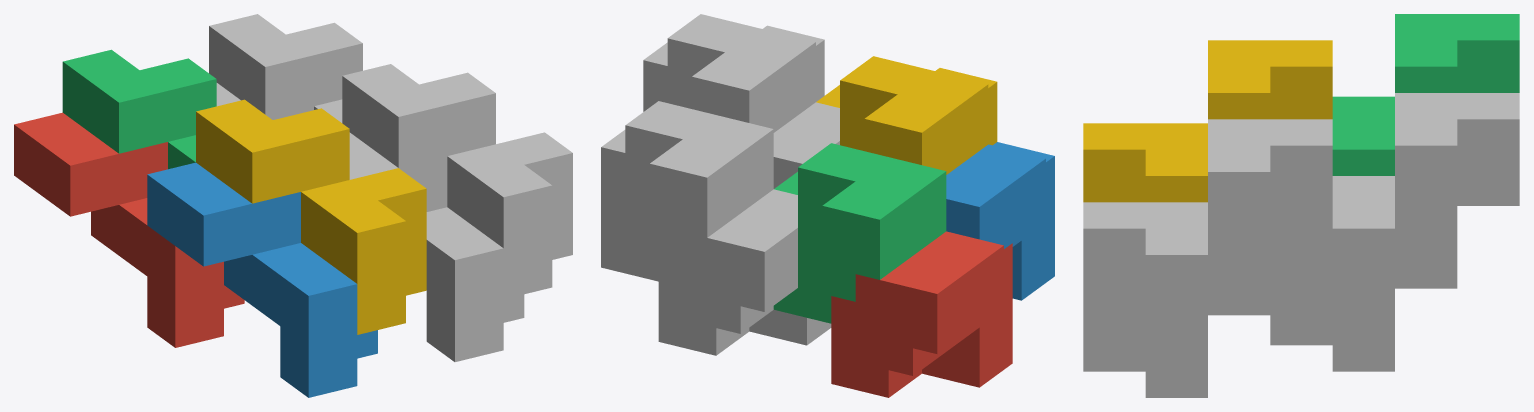
The model's file is tiling.obj.
3 views of the same model, side by side, from view 1: azimuth 30°, elevation 25°; view 2: azimuth 150°, elevation 25°; view 3: azimuth 270°, elevation 25° (orthographic). The views are drawn at different scales.
Parts seen in each view (by area): view 1: copy_1_domain_4, copy_1_domain_8, copy_1_domain_2, copy_1_domain_1, copy_1_domain_6, copy_1_domain_3, copy_1_domain_7, copy_1_domain_5; view 2: copy_1_domain_1, copy_1_domain_7, copy_1_domain_3, copy_1_domain_5, copy_1_domain_8, copy_1_domain_4, copy_1_domain_2, copy_1_domain_6; view 3: copy_1_domain_8, copy_1_domain_7, copy_1_domain_4, copy_1_domain_3, copy_1_domain_5, copy_1_domain_6.
Part boxes in pixels (x1,y1,x2,y2): copy_1_domain_4: (196, 99, 426, 334); copy_1_domain_8: (342, 64, 572, 299); copy_1_domain_2: (147, 162, 377, 397); copy_1_domain_1: (14, 112, 244, 347); copy_1_domain_6: (349, 132, 524, 361); copy_1_domain_3: (62, 49, 216, 169); copy_1_domain_7: (209, 14, 362, 122); copy_1_domain_5: (216, 83, 313, 119); copy_1_domain_1: (831, 231, 1012, 397); copy_1_domain_7: (601, 101, 773, 281); copy_1_domain_3: (773, 143, 946, 323); copy_1_domain_5: (658, 189, 831, 355); copy_1_domain_8: (643, 14, 824, 132); copy_1_domain_4: (816, 56, 997, 174); copy_1_domain_2: (946, 142, 1054, 300); copy_1_domain_6: (773, 102, 839, 188); copy_1_domain_8: (1083, 119, 1332, 367); copy_1_domain_7: (1270, 93, 1519, 341); copy_1_domain_4: (1083, 40, 1332, 202); copy_1_domain_3: (1332, 14, 1519, 175); copy_1_domain_5: (1270, 176, 1519, 371); copy_1_domain_6: (1083, 285, 1270, 397).
Bounding box in the file's own units: 8 × 4 × 7.
